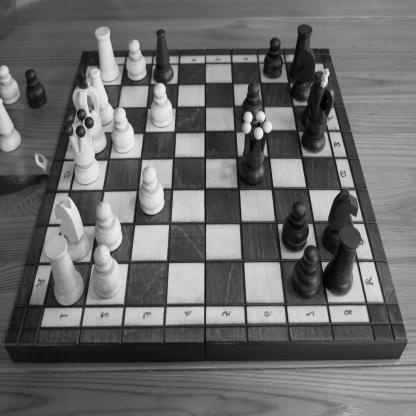black-bishop: (300, 71, 325, 128)
black-king: (301, 67, 335, 154)
black-knight: (322, 188, 359, 254), (291, 44, 316, 103)
black-pawn: (292, 244, 322, 300), (281, 200, 309, 254), (241, 81, 263, 128), (24, 68, 48, 110), (263, 36, 284, 80)
black-queen: (239, 110, 273, 186)
black-rook: (322, 224, 362, 296), (290, 23, 313, 78)
white-bishop: (90, 68, 114, 126), (0, 98, 23, 152), (154, 28, 176, 81)
white-king: (72, 70, 108, 155)
white-knight: (53, 195, 90, 261)
white-pawn: (92, 243, 122, 299), (94, 201, 123, 253), (138, 165, 165, 216), (111, 107, 135, 154), (150, 82, 173, 128), (126, 38, 147, 81), (1, 64, 21, 106)
white-queen: (63, 108, 100, 185)
white-rook: (44, 234, 84, 307), (95, 26, 120, 82)
